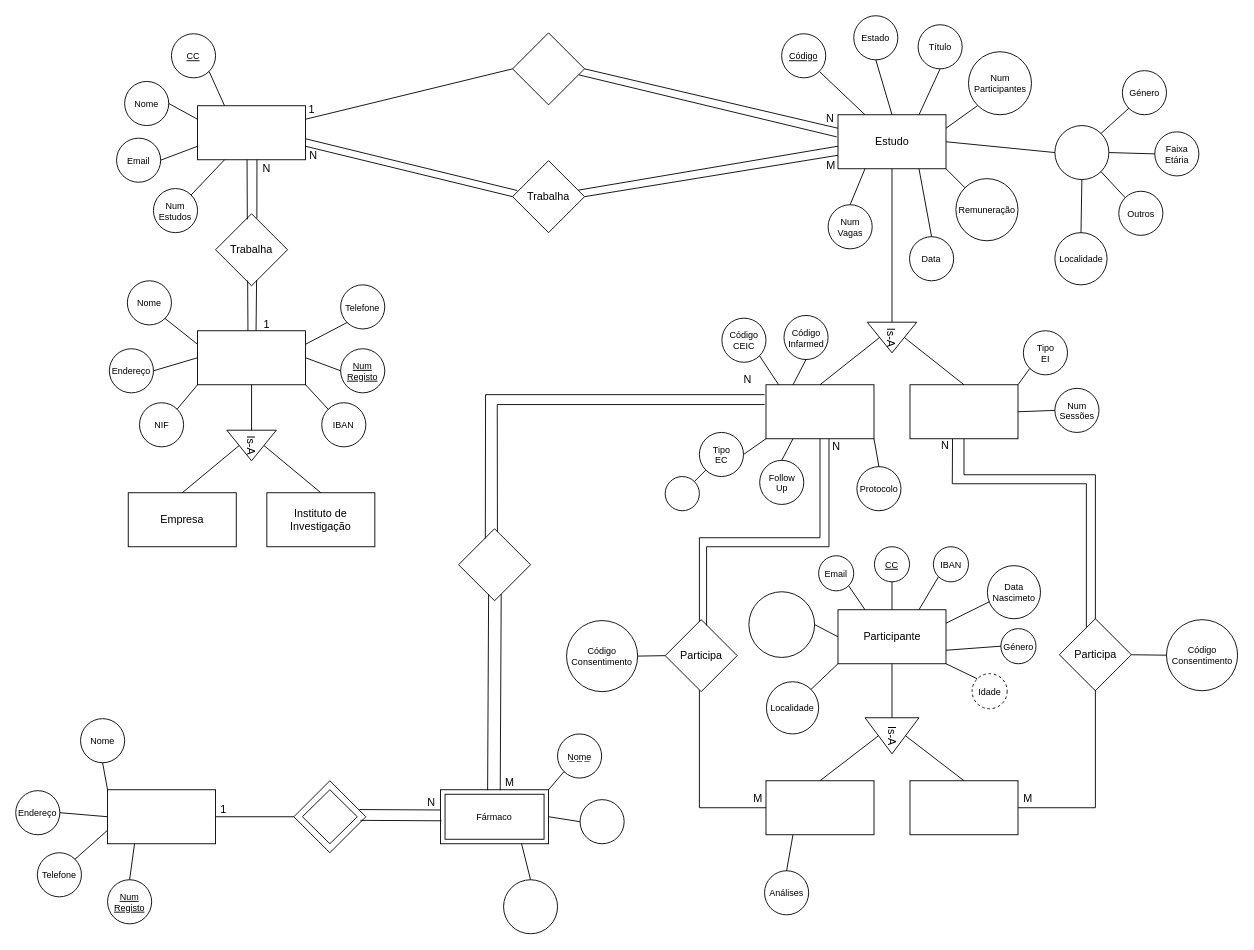
Image size: 1254x950. Some labels were removed from this diagram. The centre of each missing label's shape, as x and y in pixels:
Condições Seleção: pixel 1081 152
Coordena: pixel 548 68
Ensaio Clínico: pixel 819 411
Entidade Patronal: pixel 251 357
Estudo de Investigação: pixel 963 411
Farmacêutica: pixel 161 816
Fórmula: pixel 601 821
Investigador: pixel 251 132
Num Tomas: pixel 681 493
Participante de Ensaios Clínicos: pixel 819 807
Participante de Estudos de Investigação: pixel 963 807
Produz: pixel 329 816
Remuneração Total: pixel 781 624
Substância Ativa: pixel 530 906
Testa: pixel 494 564
